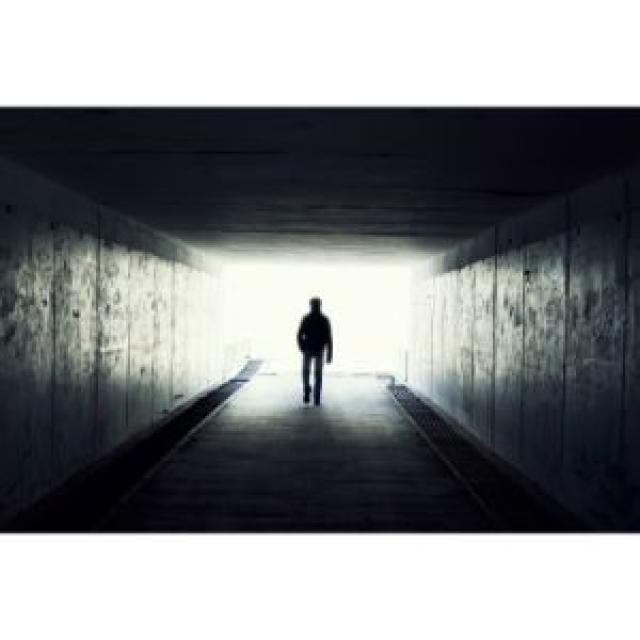nonfall: (286, 290, 363, 410)
